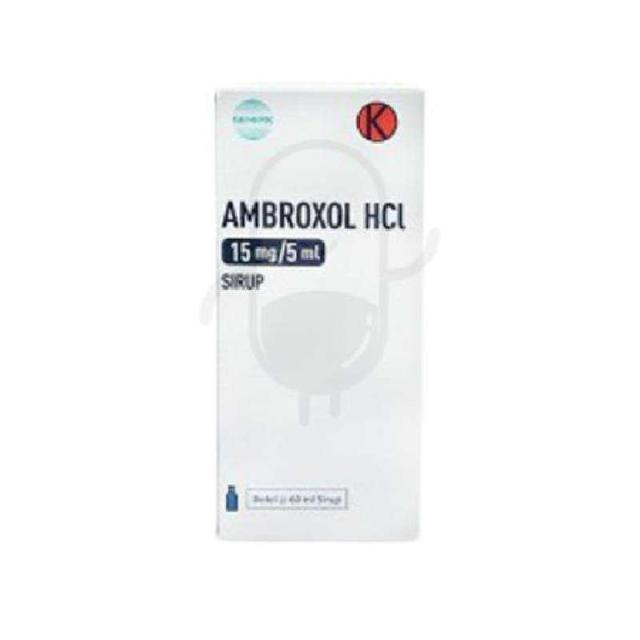drug-name: (219, 196, 365, 234)
